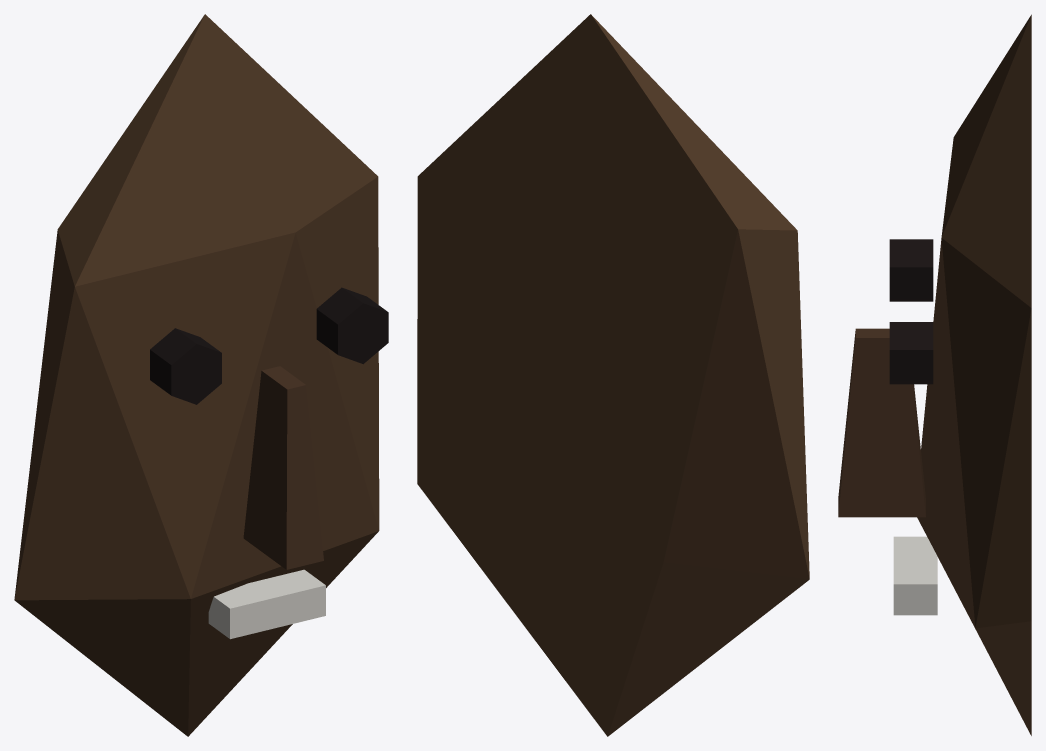
File: wall-mask-35.glb
3 renders of one model, left to right at view 1: azimuth 30°, elevation 25°; view 2: azimuth 150°, elevation 25°; view 3: azimuth 270°, elevation 25°, orthographic.
Parts seen in each view (by area): view 1: wall_mask_35; view 2: wall_mask_35; view 3: wall_mask_35.
Part boxes in pixels (x1,y1,x2,y2): wall_mask_35: (14, 14, 388, 736); wall_mask_35: (417, 14, 809, 736); wall_mask_35: (838, 14, 1031, 735).
Bounding box in the file's own units: 0.2027 × 0.368 × 0.0883.
